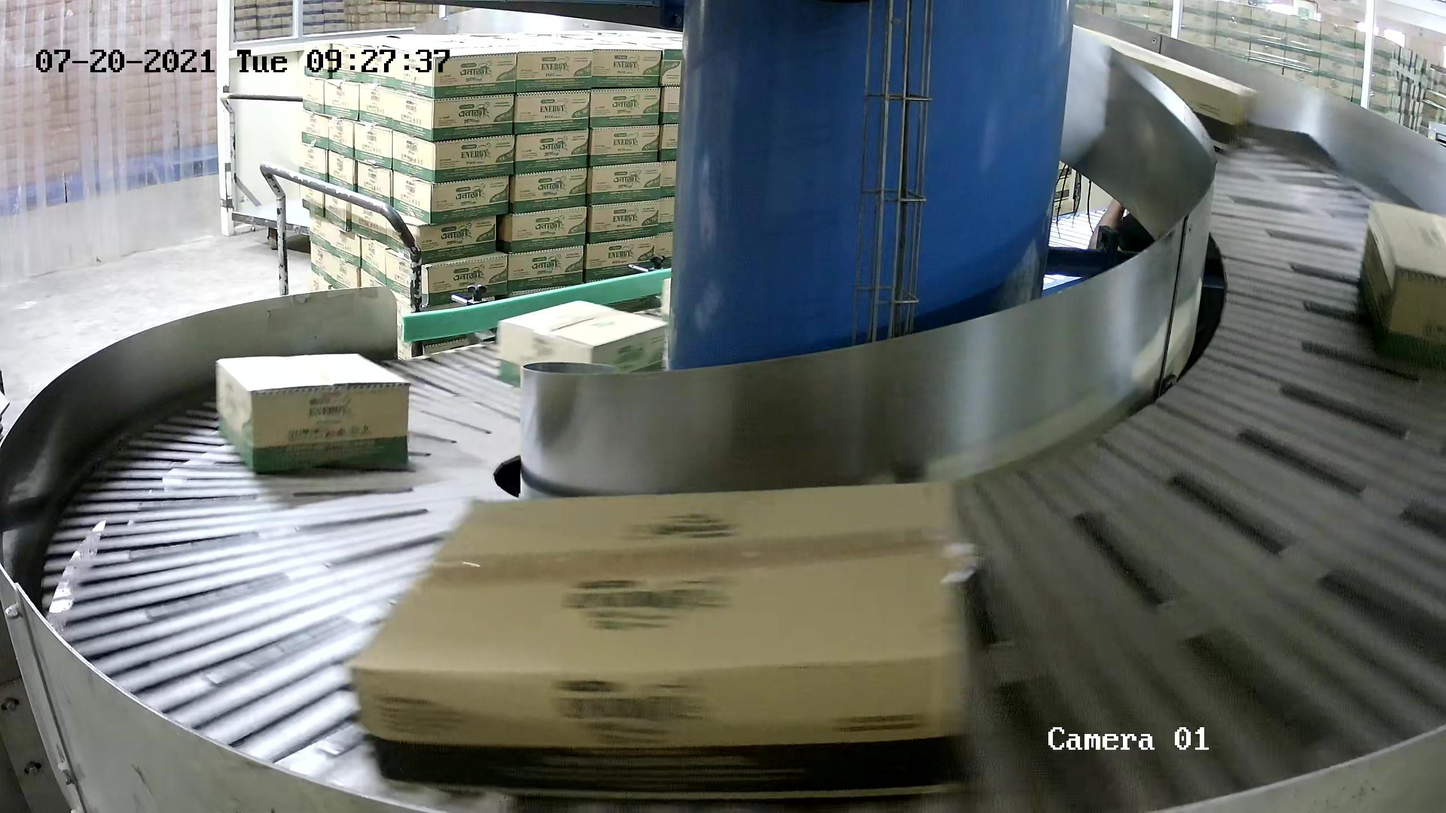Box: (351, 471, 986, 813), (1029, 17, 1261, 155), (213, 350, 419, 483), (495, 297, 672, 397), (1356, 198, 1446, 380)
